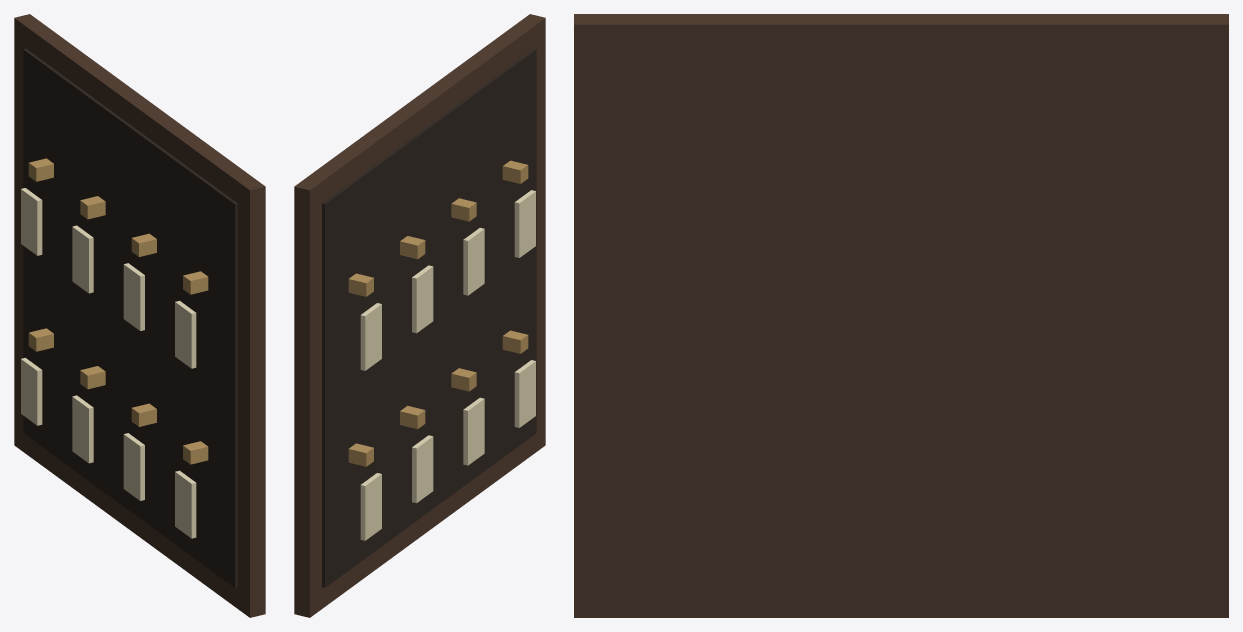
Rendered from LP_KeyBoard.fbx.
3 views of the same model, side by side, from view 1: azimuth 30°, elevation 25°; view 2: azimuth 150°, elevation 25°; view 3: azimuth 270°, elevation 25° (orthographic). The views are drawn at different scales.
Visible parts, largest first — view 1: RecessedWalnut, Walnut, WarmIvory, AgedBrass; view 2: RecessedWalnut, Walnut, WarmIvory, AgedBrass; view 3: Walnut.
Boxes of the visible parts, <box> form: RecessedWalnut: <box>23,48,237,587</box>; Walnut: <box>14,14,265,617</box>; WarmIvory: <box>21,188,196,538</box>; AgedBrass: <box>28,158,208,464</box>; RecessedWalnut: <box>322,48,536,587</box>; Walnut: <box>294,14,545,617</box>; WarmIvory: <box>360,190,535,540</box>; AgedBrass: <box>348,160,528,466</box>; Walnut: <box>574,14,1228,617</box>.
Size of the model in its own units: 7.65 by 78 by 78.
